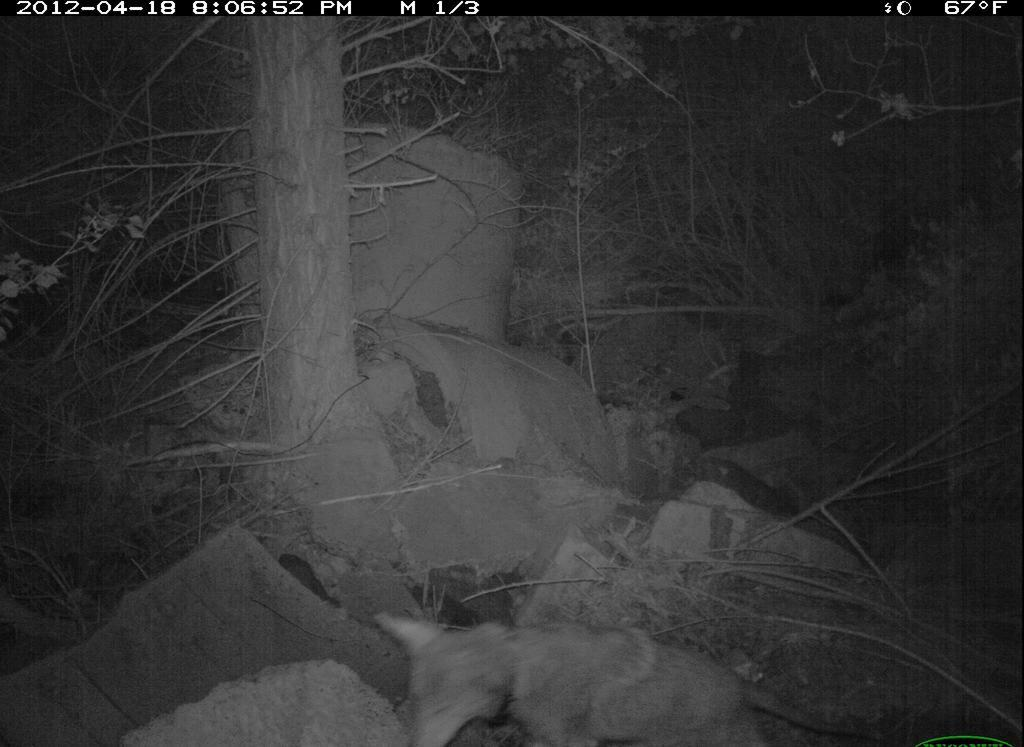coyote: (367, 598, 882, 747)
